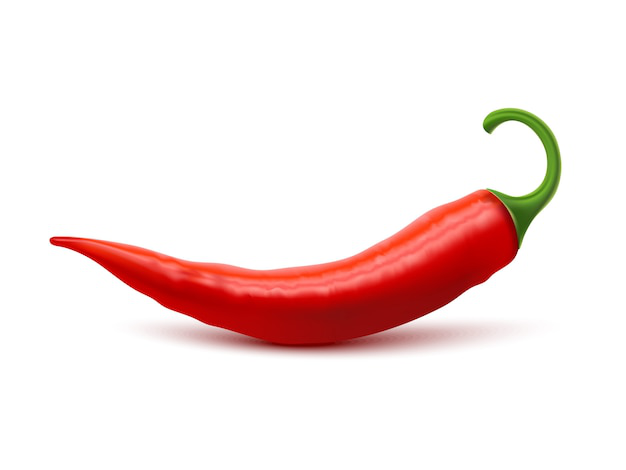Cabai: (36, 61, 575, 388)
